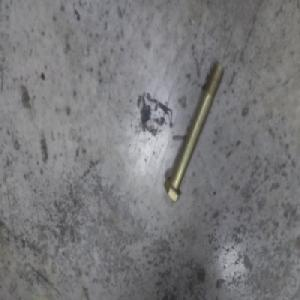Bolt: (162, 65, 221, 201)
